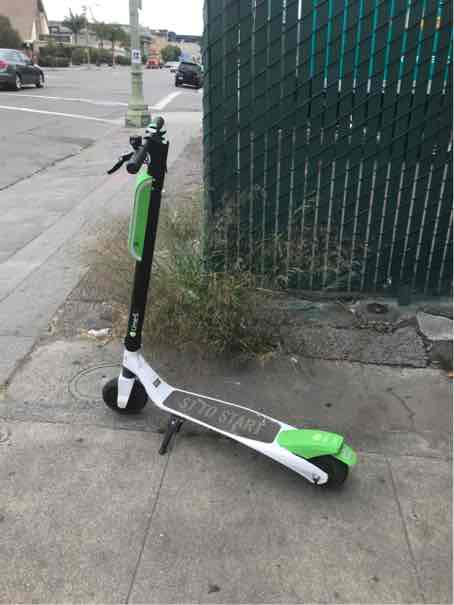scooter: (92, 106, 355, 498)
